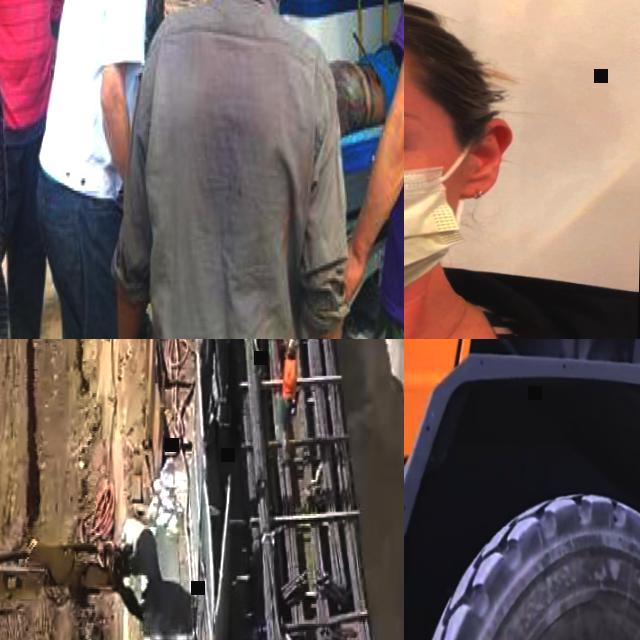helmet: (110, 0, 363, 339), (290, 339, 299, 350)
machinery: (404, 339, 640, 640), (0, 507, 167, 640)
no_vest: (142, 0, 309, 339), (47, 0, 143, 191), (0, 0, 62, 141), (0, 0, 12, 339), (55, 0, 90, 39), (150, 0, 169, 30)
person: (404, 0, 640, 339), (39, 0, 180, 339), (0, 0, 86, 339), (0, 0, 49, 339), (109, 0, 171, 39), (279, 339, 300, 441)
vehicle: (27, 0, 404, 339), (219, 339, 404, 640)
vest: (284, 354, 298, 394)
